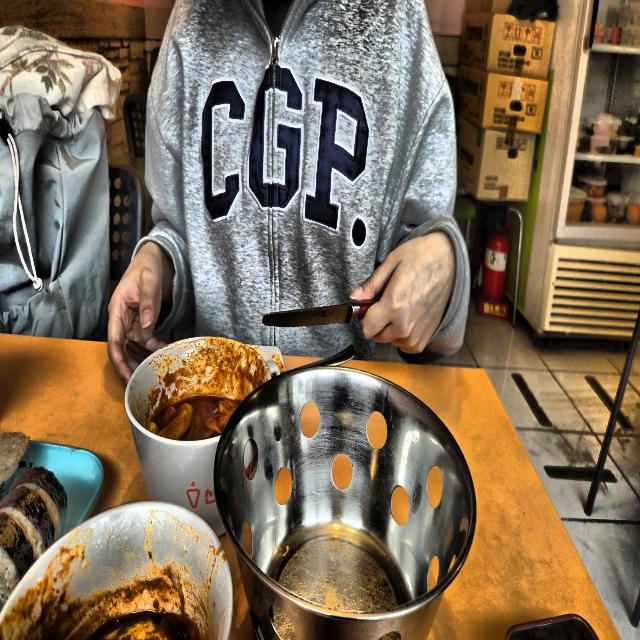knife: (262, 300, 386, 330)
